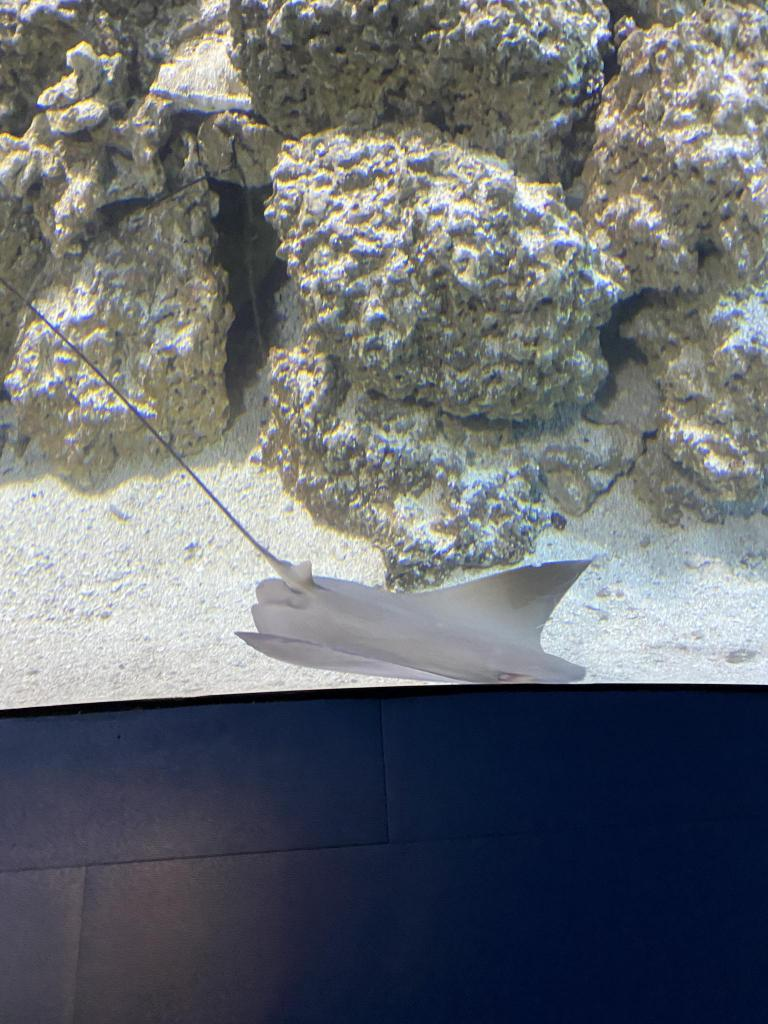stingray: (230, 560, 590, 690)
